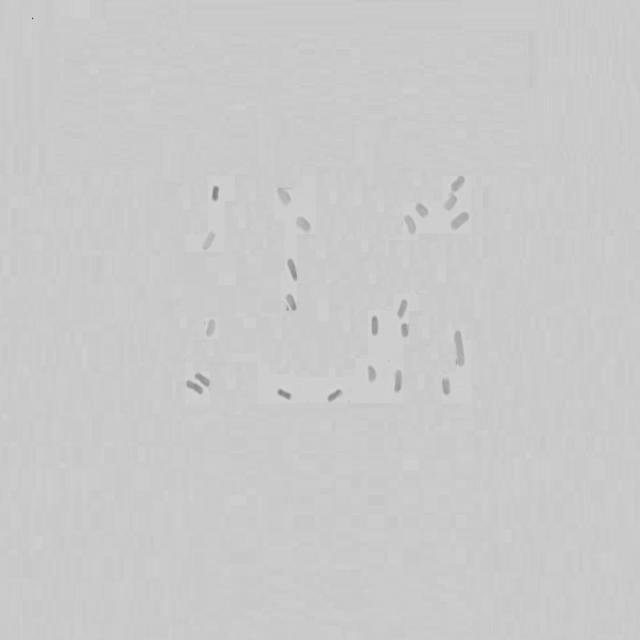E-coli: (188, 366, 217, 391), (180, 377, 206, 401), (451, 326, 465, 363), (293, 211, 312, 237), (276, 185, 295, 210), (284, 254, 300, 282), (450, 169, 466, 194), (402, 211, 416, 239), (204, 228, 219, 254), (205, 314, 218, 342), (208, 179, 221, 205), (450, 212, 471, 228), (415, 194, 428, 218), (440, 373, 452, 398), (275, 384, 293, 400), (443, 194, 459, 212), (399, 318, 412, 340), (366, 360, 377, 385), (370, 310, 380, 336), (286, 293, 297, 315), (393, 367, 403, 391), (396, 297, 409, 315), (327, 388, 344, 401)
